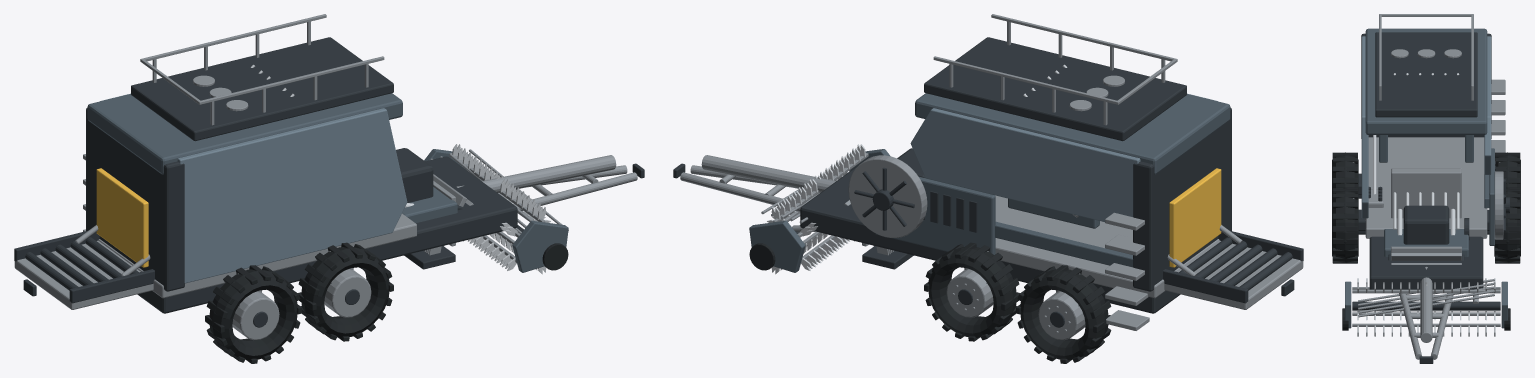
File: new-holland-bigbaler-340-high-density-cropcutter-structural-study.glb
3 renders of one model, left to right at view 1: azimuth 30°, elevation 25°; view 2: azimuth 150°, elevation 25°; view 3: azimuth 270°, elevation 25°, orthographic. The views are drawn at different scales.
Parts seen in each view (by area): view 1: Bale_Chamber_Right_Panel, Top_Service_Deck, Bale_Chamber_Rear_Frame, Bale_Chamber_Roof, Baler_Main_Frame, Tandem_RR_Tire, Tandem_FR_Tire, Bale_Section_120x90_Cue, Bale_Chute_Deck, Bale_Chamber_Floor, PTO_Guard, Pickup_R_End_Guard (+15 smaller); view 2: Bale_Chamber_Operator_Upper_Panel, Top_Service_Deck, Bale_Chamber_Rear_Frame, Bale_Chamber_Roof, Bale_Chamber_Floor, Baler_Main_Frame, Flywheel_1080mm, Operator_CropFlow_Service_Panel, Tandem_RL_Tire, Tandem_FL_Tire, Bale_Section_120x90_Cue, Bale_Chute_Deck (+20 smaller); view 3: Top_Service_Deck, Bale_Chamber_Floor, Bale_Chamber_Roof, Baler_Main_Frame, Plunger_Face, SmartShift_Gearbox, Bale_Chamber_Right_Panel, Tandem_FR_Tire, CropCutter_Feed_Tunnel, Pickup_Reel_Axle, PTO_Guard, Bale_Chamber_Operator_Upper_Panel (+34 smaller).
Boxes of the visible parts, bbox=[...] form: Bale_Chamber_Right_Panel: bbox=[177, 108, 407, 283]; Top_Service_Deck: bbox=[131, 37, 393, 141]; Bale_Chamber_Rear_Frame: bbox=[86, 107, 184, 291]; Bale_Chamber_Roof: bbox=[87, 93, 402, 174]; Baler_Main_Frame: bbox=[137, 156, 517, 313]; Tandem_RR_Tire: bbox=[209, 269, 297, 360]; Tandem_FR_Tire: bbox=[301, 247, 389, 337]; Bale_Section_120x90_Cue: bbox=[96, 168, 148, 267]; Bale_Chute_Deck: bbox=[14, 240, 153, 309]; Bale_Chamber_Floor: bbox=[98, 213, 416, 298]; PTO_Guard: bbox=[456, 155, 616, 192]; Pickup_R_End_Guard: bbox=[512, 220, 568, 272]; Bale_Chamber_Operator_Upper_Panel: bbox=[910, 108, 1140, 221]; Top_Service_Deck: bbox=[924, 37, 1186, 141]; Bale_Chamber_Rear_Frame: bbox=[1133, 107, 1231, 291]; Bale_Chamber_Roof: bbox=[915, 93, 1230, 174]; Bale_Chamber_Floor: bbox=[995, 195, 1219, 298]; Baler_Main_Frame: bbox=[800, 156, 1180, 313]; Flywheel_1080mm: bbox=[848, 155, 927, 237]; Operator_CropFlow_Service_Panel: bbox=[875, 177, 995, 254]; Tandem_RL_Tire: bbox=[1020, 269, 1108, 360]; Tandem_FL_Tire: bbox=[928, 247, 1016, 337]; Bale_Section_120x90_Cue: bbox=[1169, 168, 1221, 267]; Bale_Chute_Deck: bbox=[1164, 240, 1303, 309]; Top_Service_Deck: bbox=[1375, 32, 1477, 117]; Bale_Chamber_Floor: bbox=[1365, 137, 1487, 238]; Bale_Chamber_Roof: bbox=[1365, 28, 1487, 134]; Baler_Main_Frame: bbox=[1369, 236, 1483, 289]; Plunger_Face: bbox=[1391, 168, 1461, 218]; SmartShift_Gearbox: bbox=[1403, 205, 1449, 244]; Bale_Chamber_Right_Panel: bbox=[1361, 36, 1368, 218]; Tandem_FR_Tire: bbox=[1332, 188, 1358, 263]; CropCutter_Feed_Tunnel: bbox=[1384, 229, 1468, 256]; Pickup_Reel_Axle: bbox=[1352, 301, 1500, 309]; PTO_Guard: bbox=[1420, 266, 1432, 342]; Bale_Chamber_Operator_Upper_Panel: bbox=[1484, 36, 1491, 174].
Bounding box in the file's own units: 8.94 × 3.45 × 2.99.
